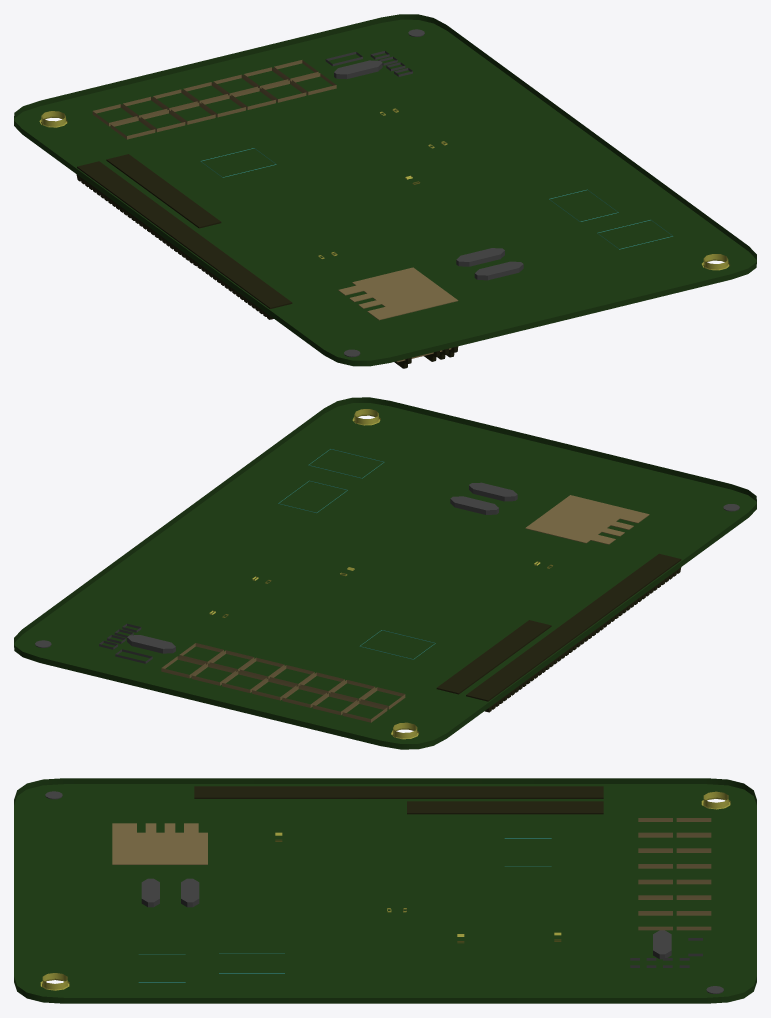
File: SM_UpperPlate.fbx
3 renders of one model, top to bottom at view 1: azimuth 30°, elevation 25°; view 2: azimuth 150°, elevation 25°; view 3: azimuth 270°, elevation 25°, orthographic. The views are drawn at different scales.
Parts seen in each view (by area): view 1: Plane035; view 2: Plane035; view 3: Plane035.
Boxes of the visible parts, bbox=[...] form: Plane035: bbox=[14, 14, 756, 368]; Plane035: bbox=[14, 397, 756, 749]; Plane035: bbox=[14, 778, 756, 1003].
Bounding box in the file's own units: 2.4 × 0.5933 × 3.43.
